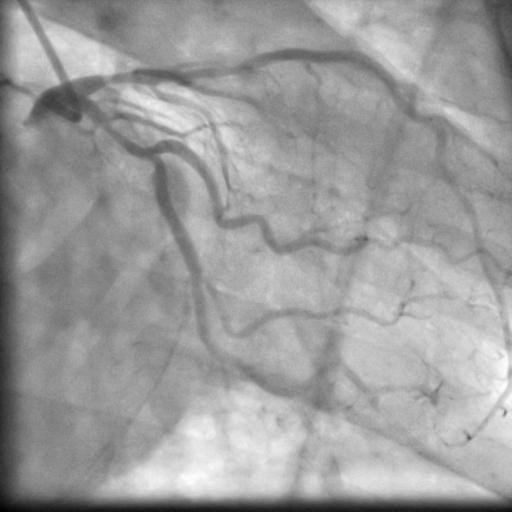Stenosis: (189, 60, 256, 81)
